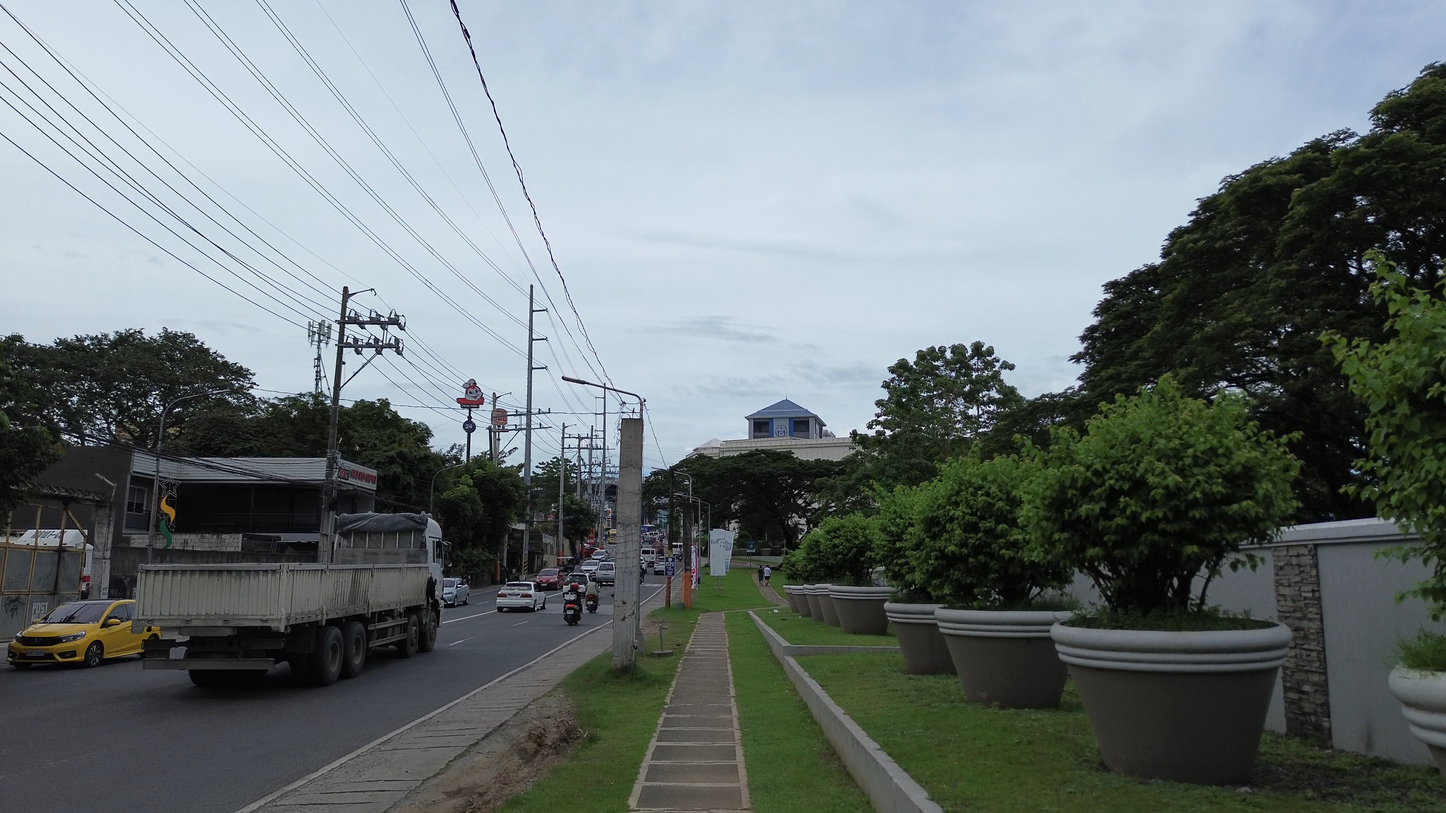car: (7, 600, 159, 668), (496, 581, 545, 612), (442, 577, 469, 607), (534, 568, 563, 590), (563, 572, 589, 590), (580, 560, 601, 574), (653, 558, 665, 575)
motorcycle: (562, 589, 582, 625), (585, 595, 598, 613)
truck: (133, 513, 445, 685)
vehicle: (562, 585, 583, 625), (593, 561, 615, 584), (564, 571, 589, 589), (640, 546, 660, 565), (580, 560, 601, 575), (584, 594, 599, 613), (590, 548, 607, 560)
